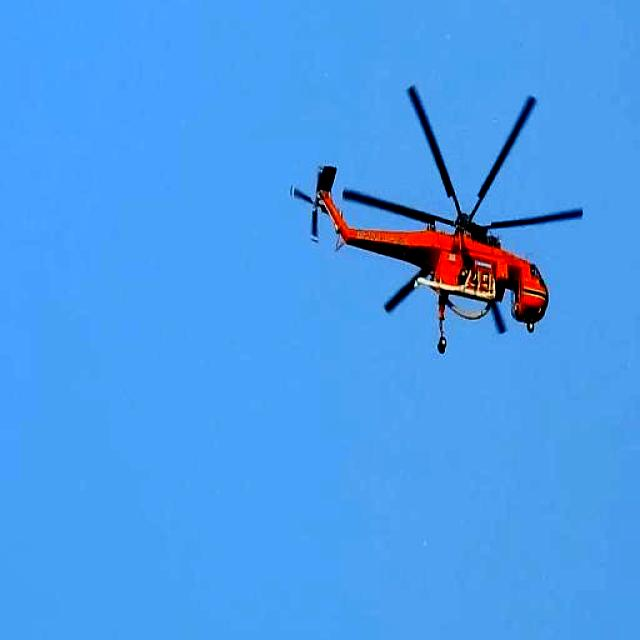drone: (292, 75, 582, 362)
